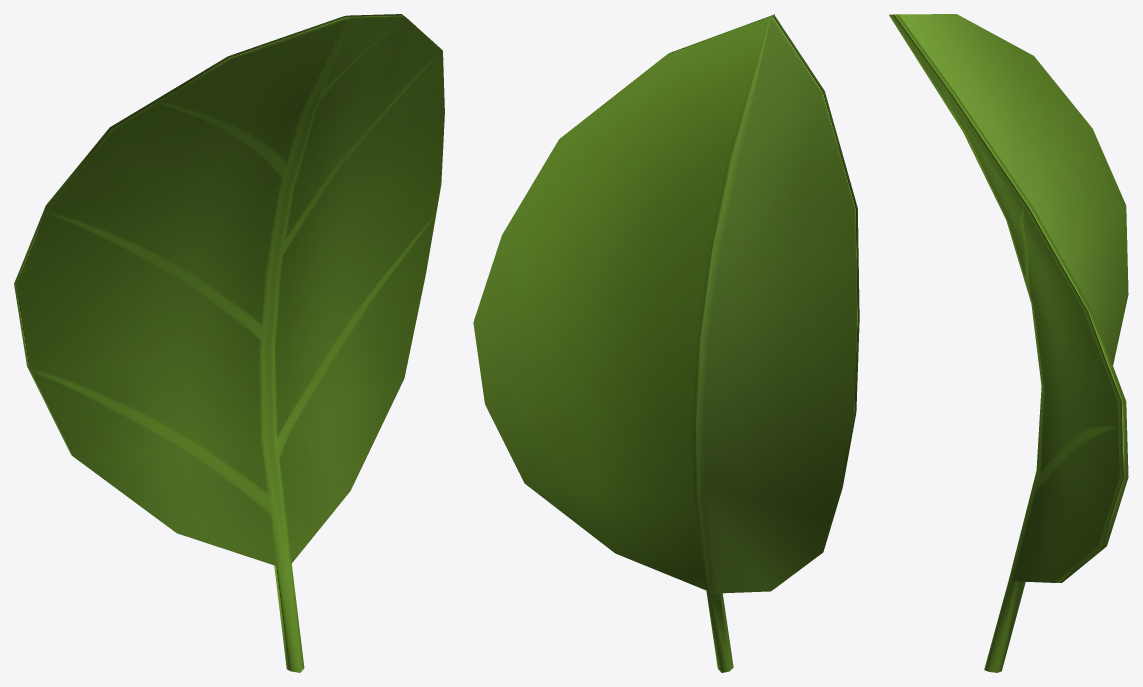
File: ENV2010080.fbx
3 views of the same model, side by side, from view 1: azimuth 30°, elevation 25°; view 2: azimuth 150°, elevation 25°; view 3: azimuth 270°, elevation 25° (orthographic). The views are drawn at different scales.
Parts seen in each view (by area): view 1: smENV2010080; view 2: smENV2010080; view 3: smENV2010080.
Part boxes in pixels (x1=…): smENV2010080: x1=14, y1=14, x2=444, y2=672; smENV2010080: x1=473, y1=14, x2=859, y2=672; smENV2010080: x1=889, y1=14, x2=1128, y2=672.
Bounding box in the file's own units: 6.97 × 10.9 × 3.61.
1 material, 1 textured.
